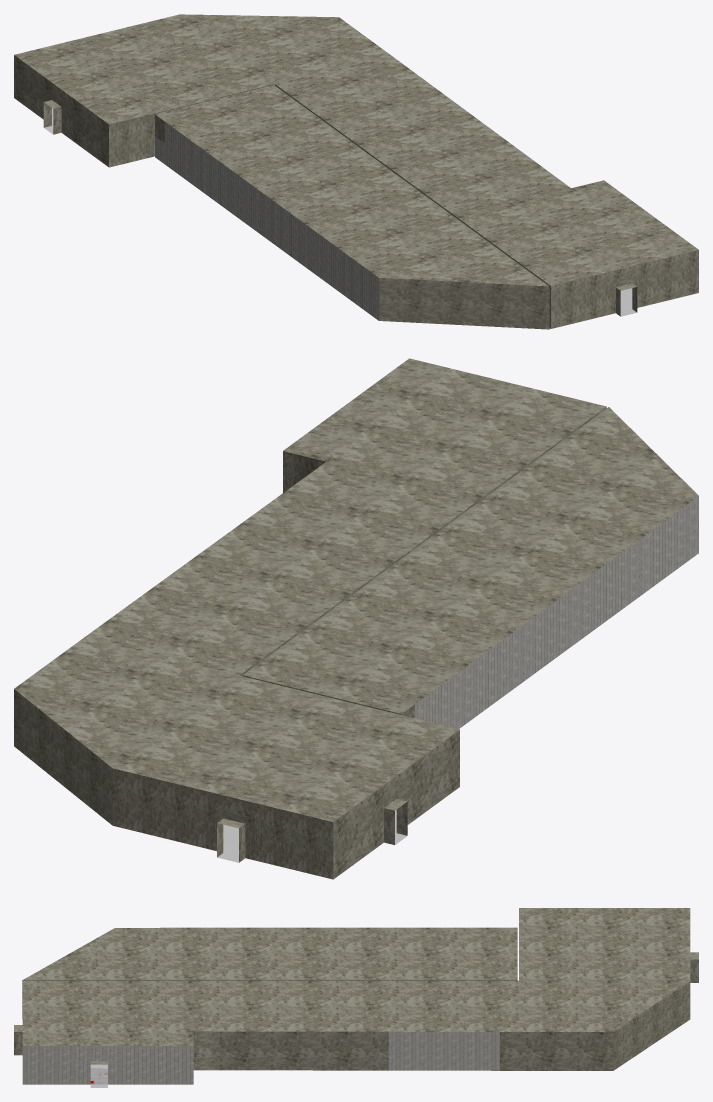
The model's file is Medical_Lab.fbx.
3 views of the same model, one above another, from view 1: azimuth 30°, elevation 25°; view 2: azimuth 150°, elevation 25°; view 3: azimuth 270°, elevation 25° (orthographic). The views are drawn at different scales.
Visible parts, largest first — view 1: Room_Medical_Lab:Medical_Lab; view 2: Room_Medical_Lab:Medical_Lab; view 3: Room_Medical_Lab:Medical_Lab.
Boxes of the visible parts, x1=… form: Room_Medical_Lab:Medical_Lab: x1=14, y1=14, x2=698, y2=329; Room_Medical_Lab:Medical_Lab: x1=14, y1=358, x2=698, y2=879; Room_Medical_Lab:Medical_Lab: x1=14, y1=908, x2=698, y2=1087.
Bounding box in the file's own units: 40 × 5.01 × 79.97.
